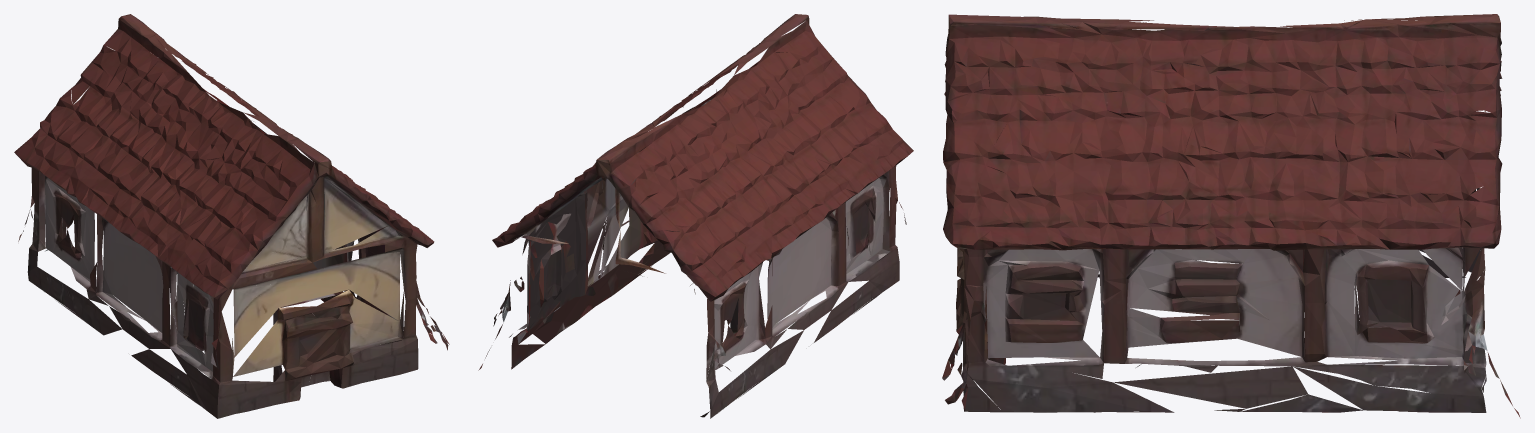
Rendered from barracks.glb.
3 views of the same model, side by side, from view 1: azimuth 30°, elevation 25°; view 2: azimuth 150°, elevation 25°; view 3: azimuth 270°, elevation 25° (orthographic). The views are drawn at different scales.
Visible parts, largest first — view 1: geometry_0; view 2: geometry_0; view 3: geometry_0.
Boxes of the visible parts, x1=… form: geometry_0: x1=14, y1=14, x2=449, y2=418; geometry_0: x1=478, y1=14, x2=913, y2=418; geometry_0: x1=942, y1=14, x2=1520, y2=418.
Size of the model in its own units: 2.75 by 2.54 by 4.
Materials: 1 (1 with a texture image).
